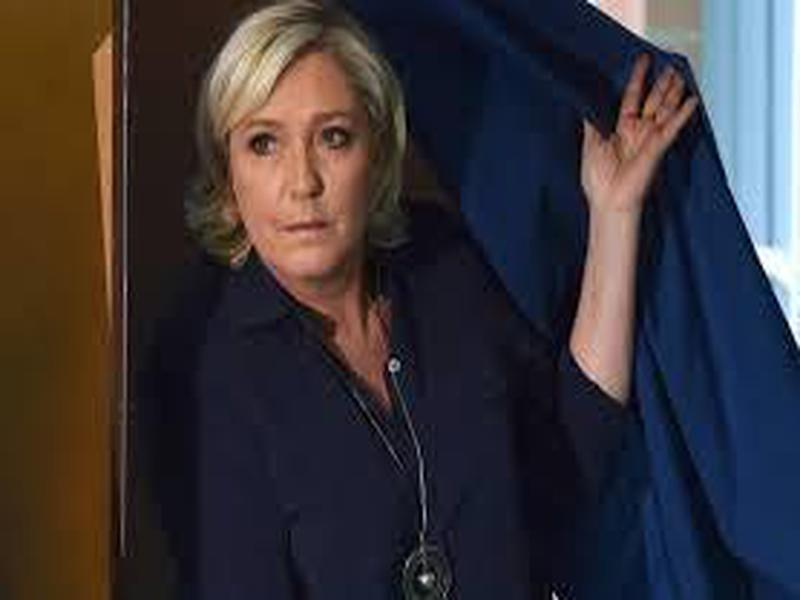without_mask: (225, 91, 370, 280)
